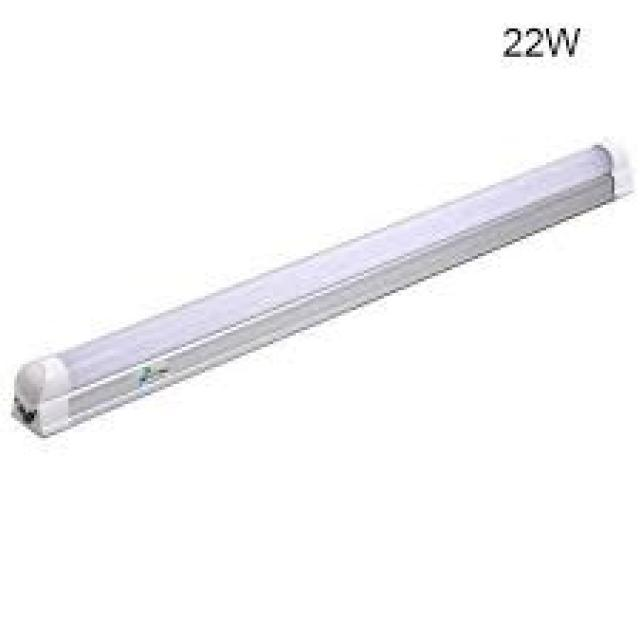tubelight_off: (7, 128, 640, 447)
